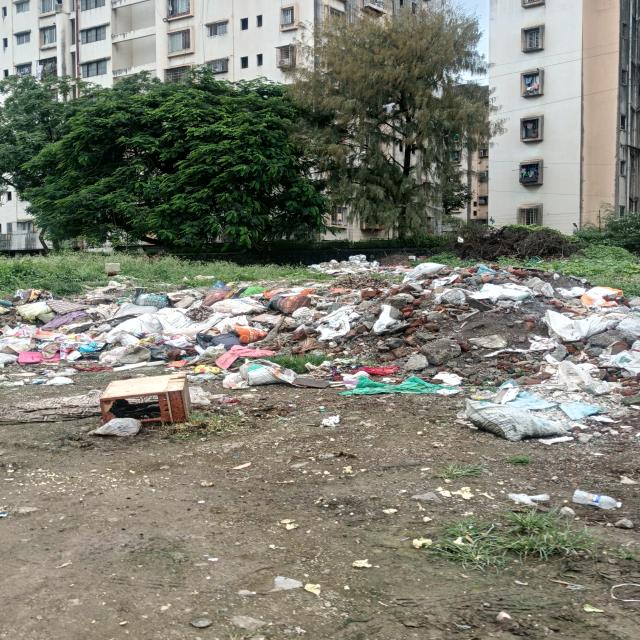garbage: (5, 265, 640, 443)
